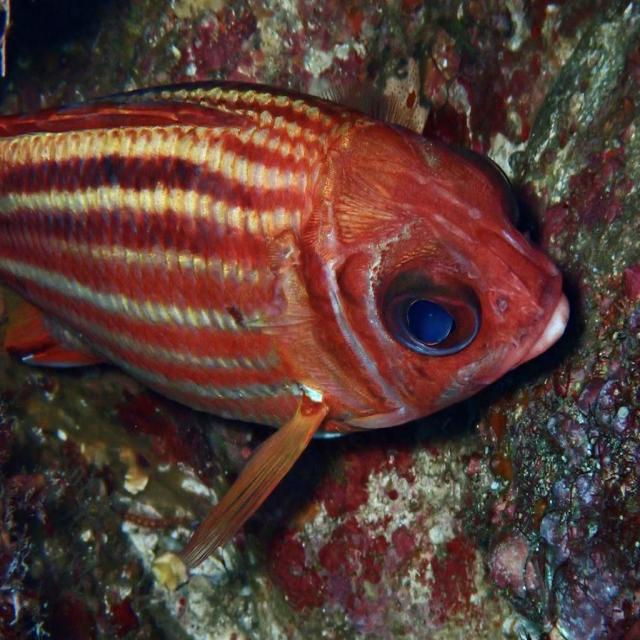Asker Baligi: (1, 77, 572, 570)
